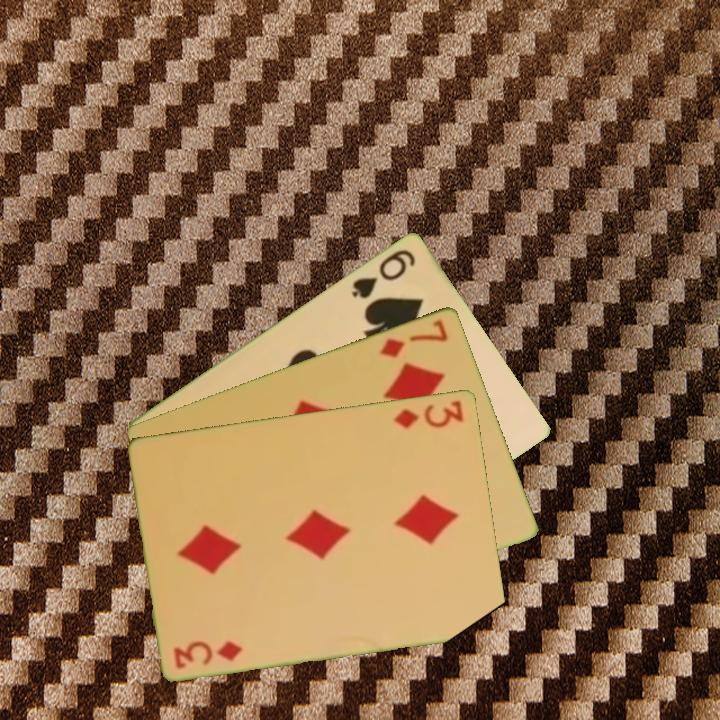3d: (390, 396, 467, 431), (170, 636, 246, 671)
6s: (347, 245, 419, 301)
7d: (375, 315, 451, 360)
